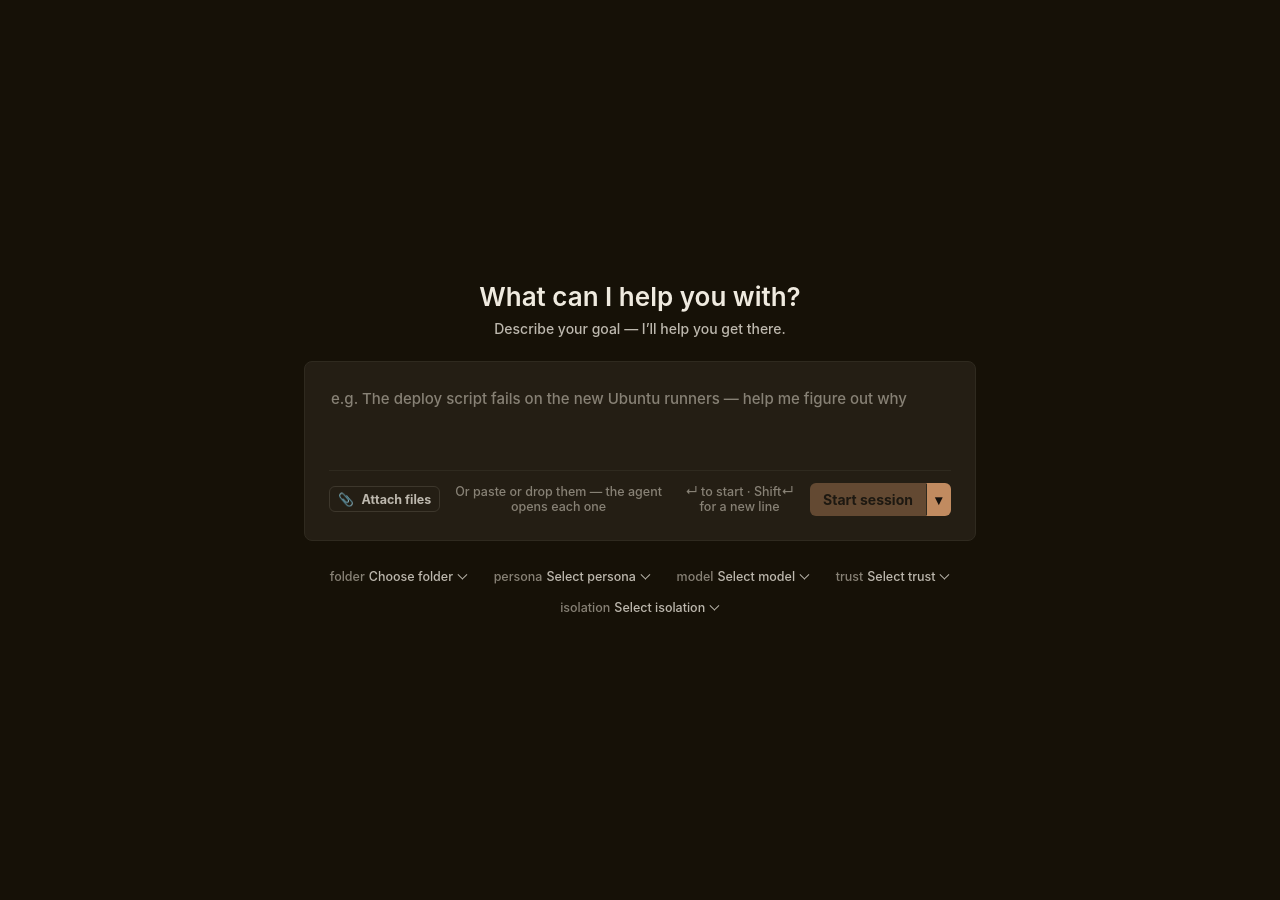
Launchpad › linked sessions (flag-gated) › threads staged links into the create payload and clears the chips on success
Click the button named "More start options". click: point(938, 499)
box: [926, 483, 951, 516]
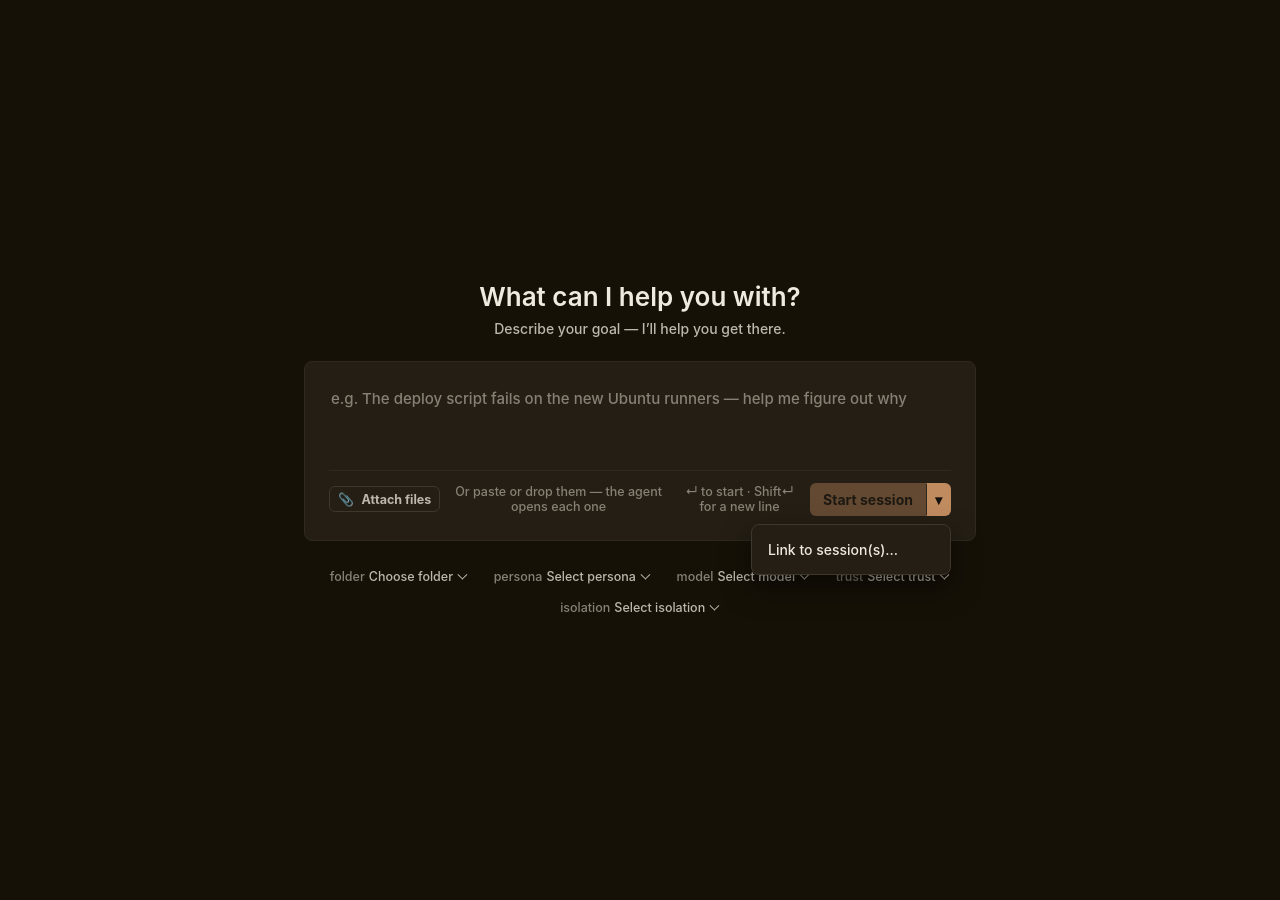
Click the menu item "Link to session(s)…". click: point(851, 549)
box: [760, 533, 942, 566]
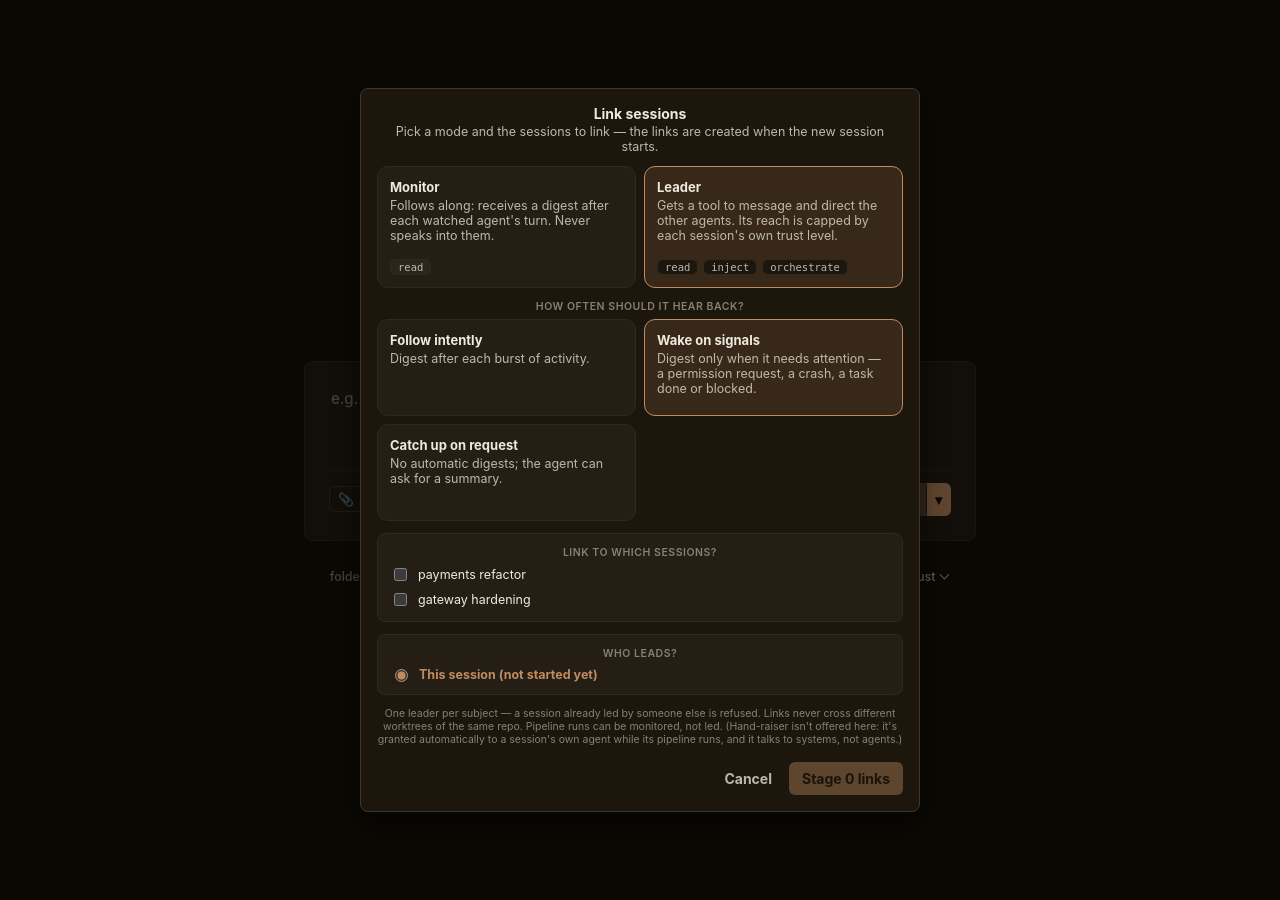
Click the checkbox labelled "payments refactor". click: point(400, 574)
box: [394, 568, 407, 581]
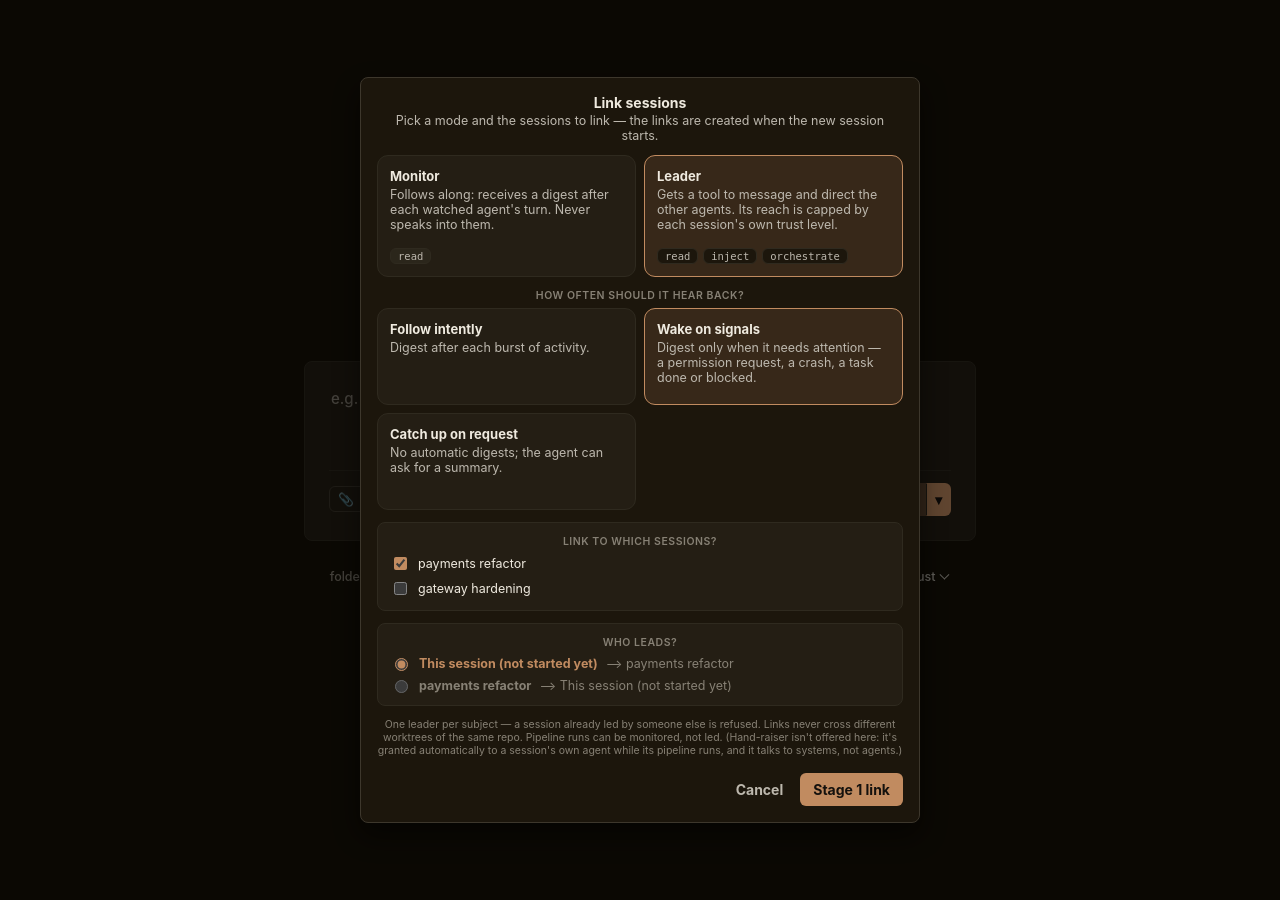
Click the button "Stage 1 link". click: point(852, 790)
box: [800, 773, 903, 806]
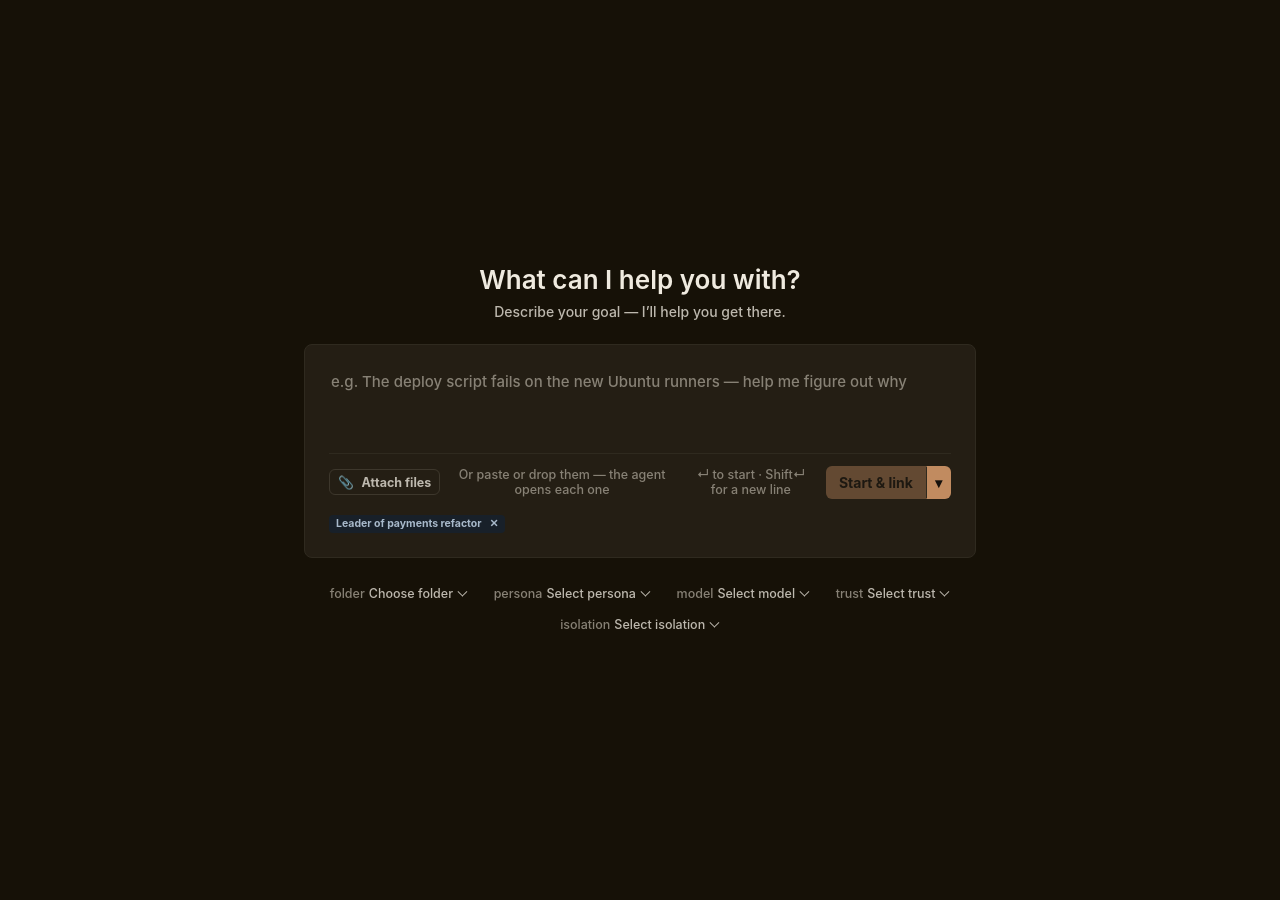
Replace the text in the text box named "Describe your goal" with "Coordinate the refactor". click: point(640, 403)
box: [329, 369, 951, 436]
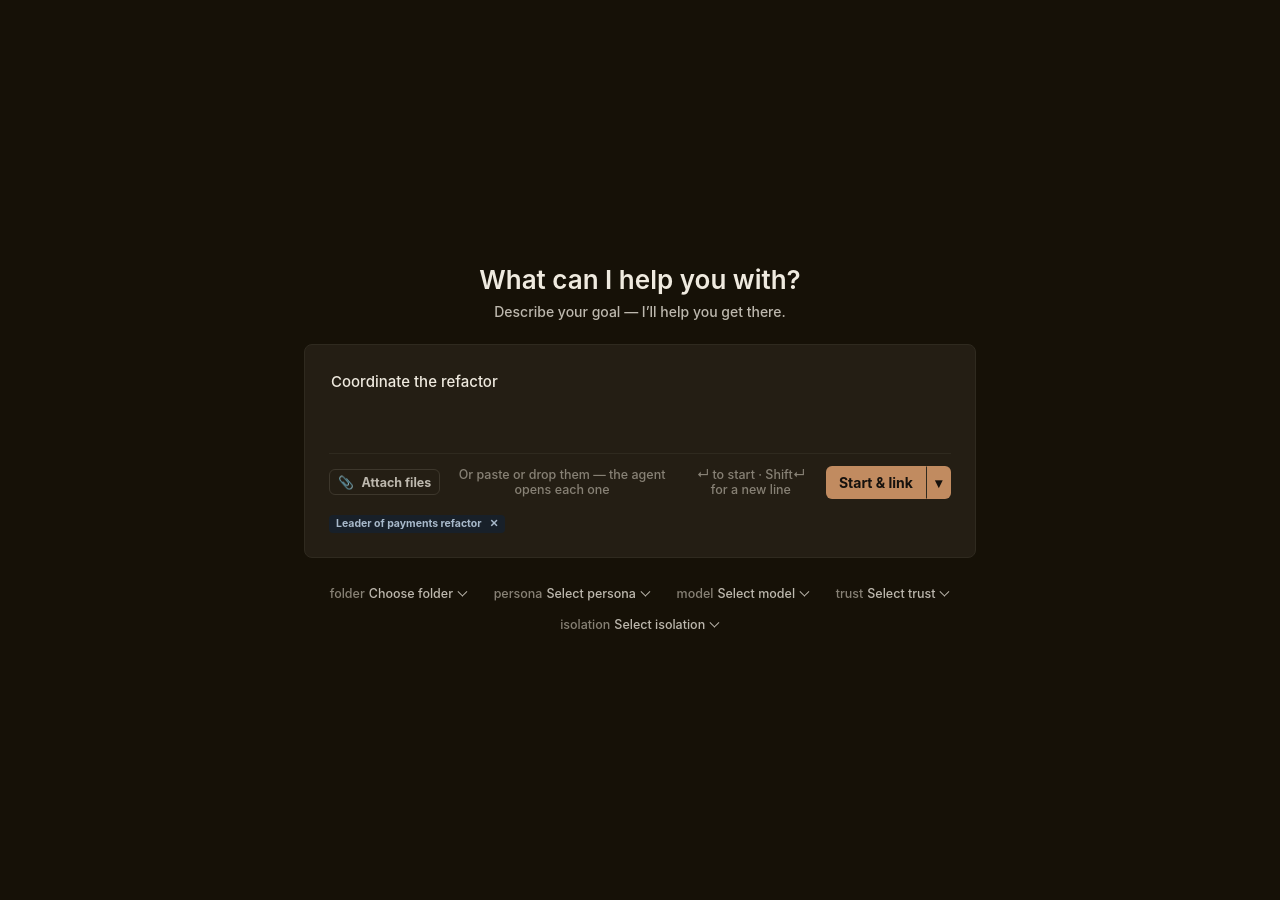
Click the button "Start & link". click: point(876, 482)
box: [826, 466, 926, 498]
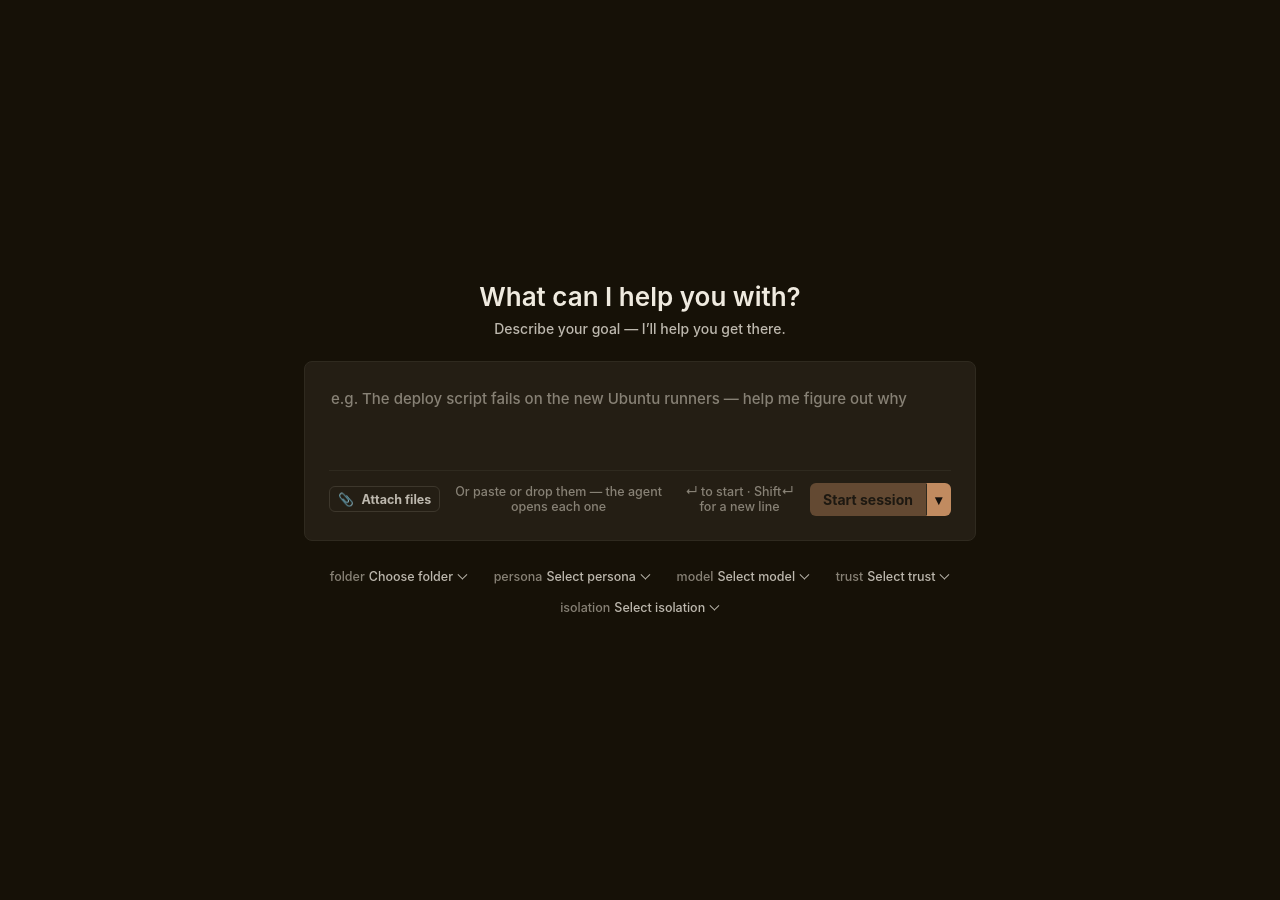
Expected: the text "Leader of payments refactor" is gone
Expected: the button "Start session" is shown, [810, 483, 926, 516]
